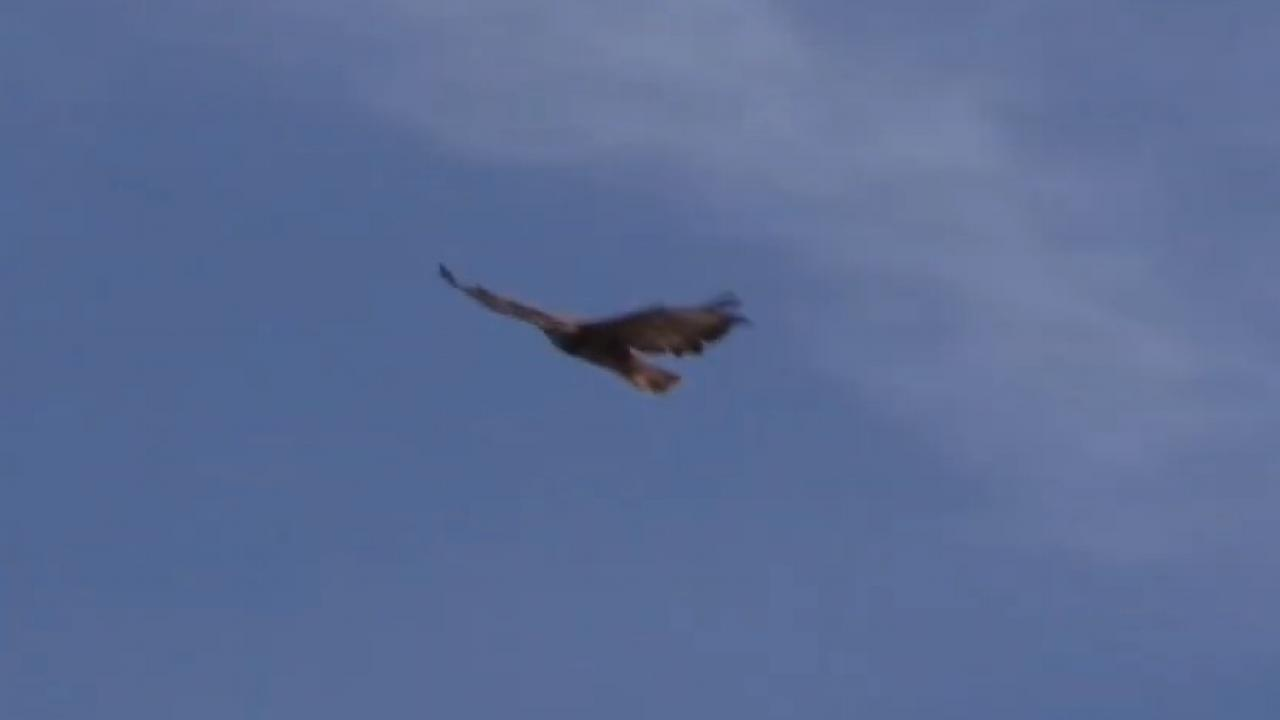Bird: (427, 254, 759, 400)
